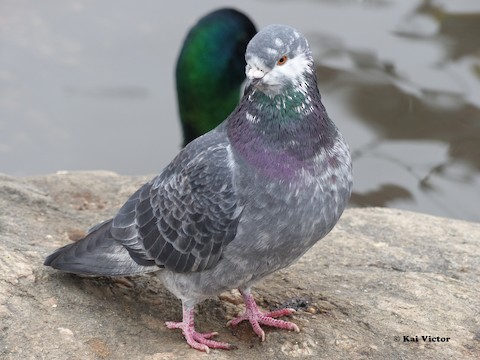pigeon: (32, 19, 361, 357)
